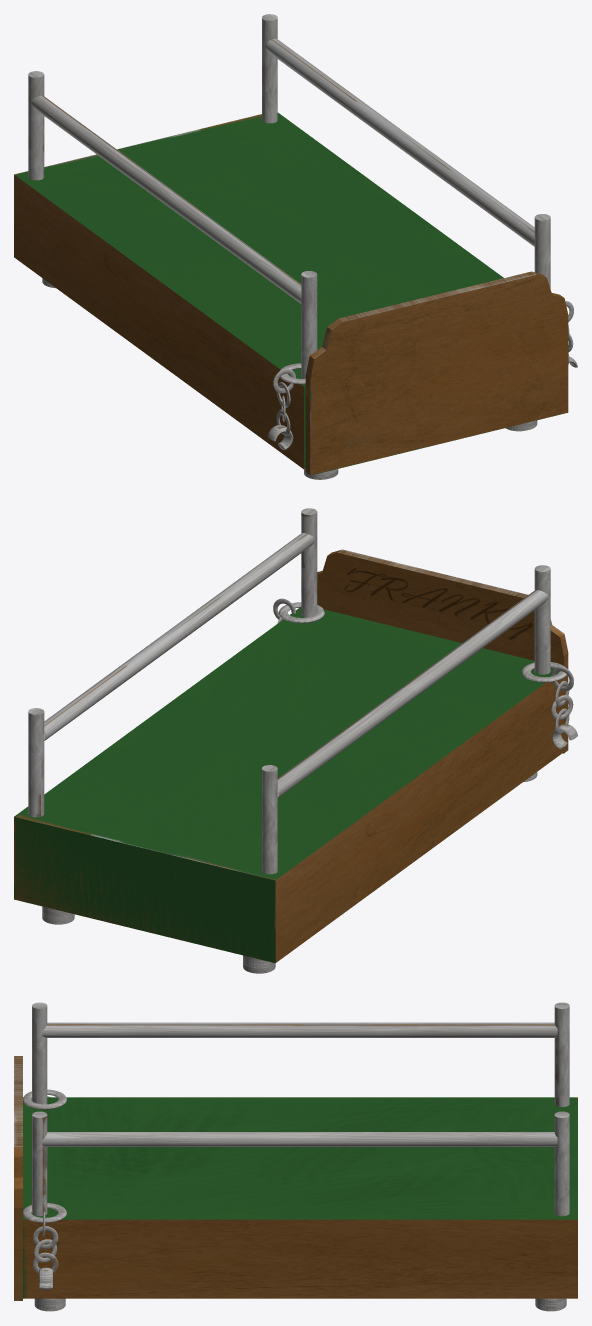
The model's file is Bett_Franky.fbx.
3 views of the same model, one above another, from view 1: azimuth 30°, elevation 25°; view 2: azimuth 150°, elevation 25°; view 3: azimuth 270°, elevation 25° (orthographic). The views are drawn at different scales.
Parts seen in each view (by area): view 1: Cube; view 2: Cube; view 3: Cube.
Boxes of the visible parts, x1,y1,x2,y2 form: Cube: (14, 14, 577, 479); Cube: (14, 508, 577, 973); Cube: (14, 1002, 577, 1311).
Bounding box in the file's own units: 122 × 78.66 × 203.
